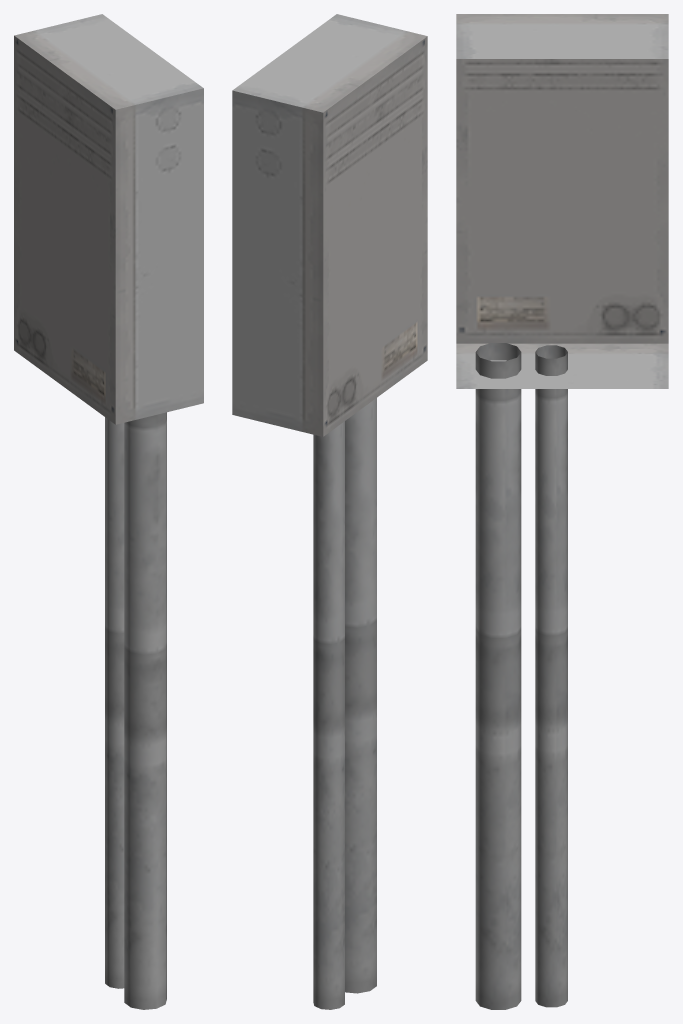
Rendered from MB_Electric_Meter_05.fbx.
3 renders of one model, left to right at view 1: azimuth 30°, elevation 25°; view 2: azimuth 150°, elevation 25°; view 3: azimuth 270°, elevation 25°, orthographic. The views are drawn at different scales.
Visible parts, largest first — view 1: MB_Electric_Meter_05; view 2: MB_Electric_Meter_05; view 3: MB_Electric_Meter_05.
Boxes of the visible parts, x1,y1,x2,y2 form: MB_Electric_Meter_05: (14, 14, 203, 1009); MB_Electric_Meter_05: (232, 14, 427, 1009); MB_Electric_Meter_05: (456, 14, 668, 1009).
Size of the model in its own units: 11.85 by 118 by 23.6.
